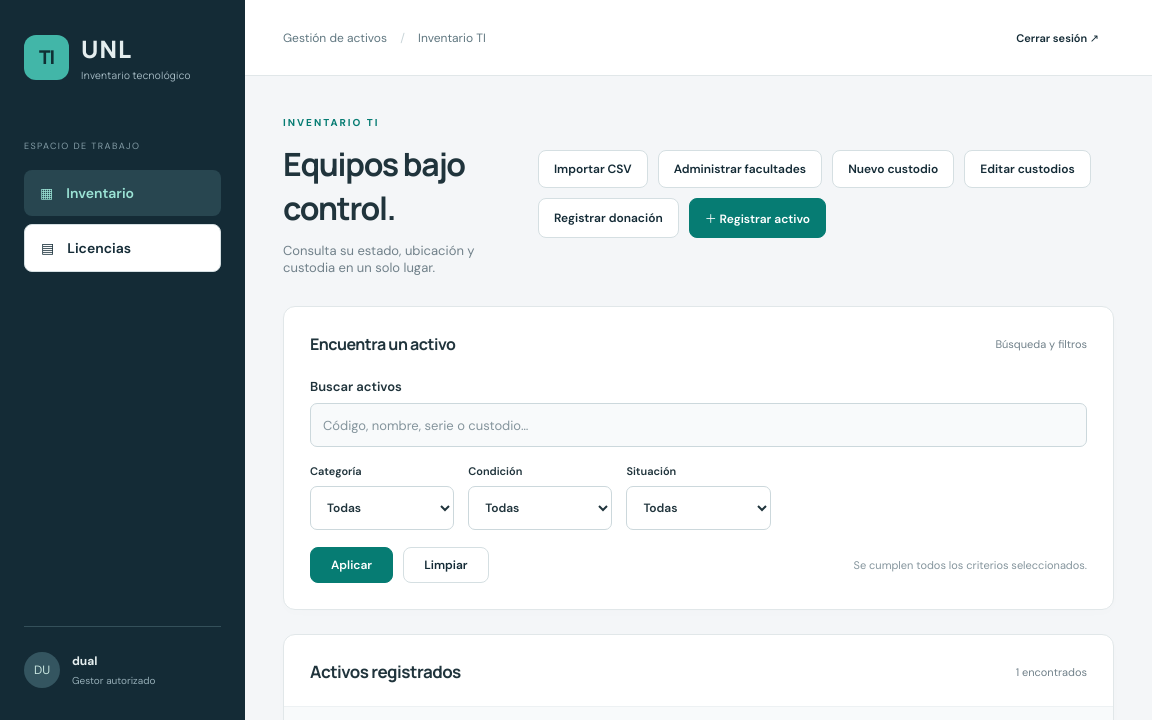
Test: cuenta con ambos permisos puede administrar y volver sin conceder roles
Click the button "Administrar facultades".
click(740, 169)  # box 658,150 -> 822,188
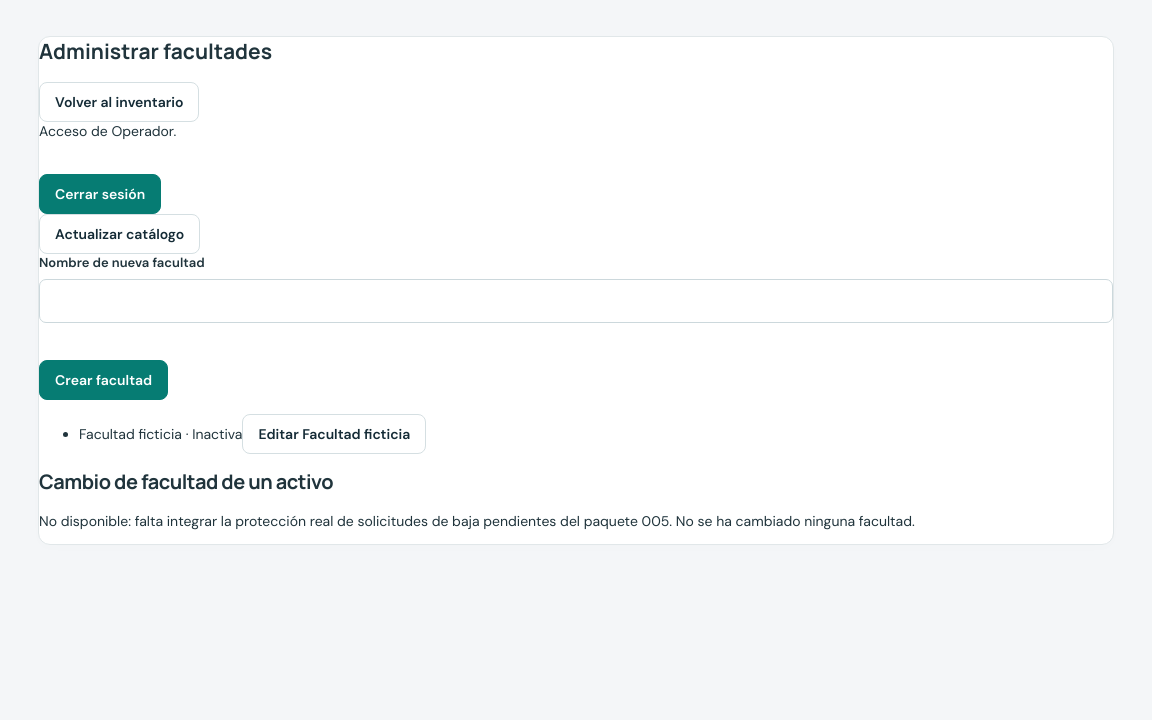
Check: the heading "Administrar facultades" is shown, box 39,37 -> 272,65
Click the button "Volver al inventario".
click(119, 102)  # box 39,82 -> 200,122
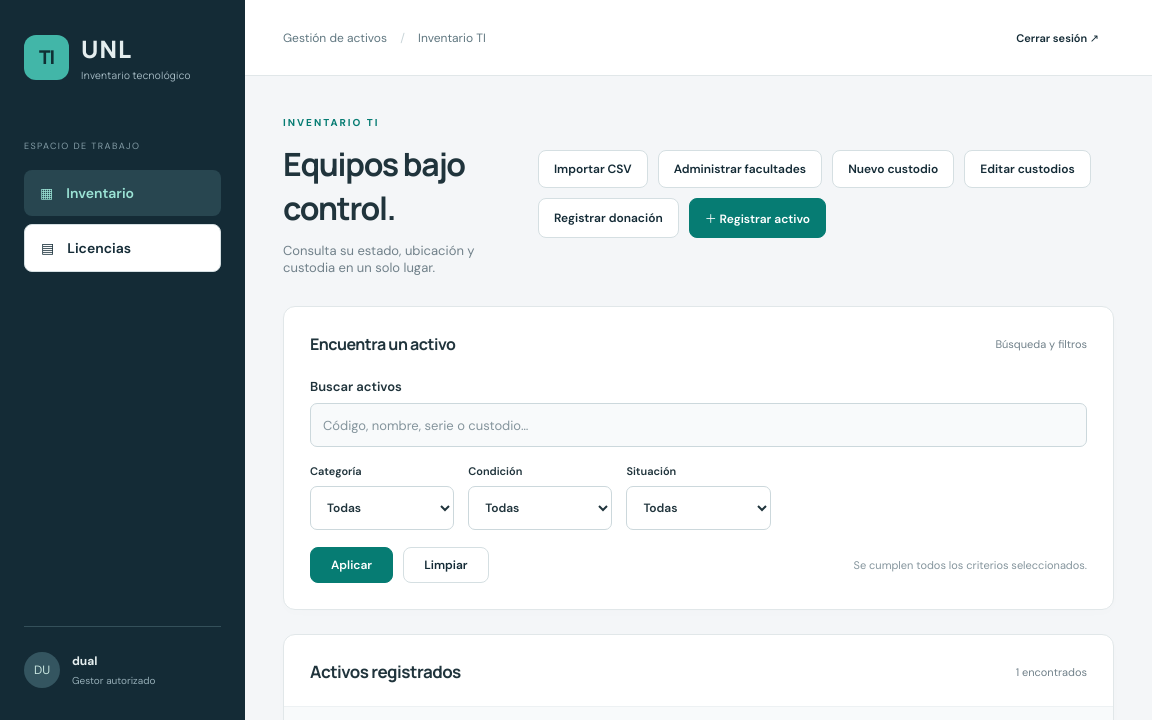
Check: the button "＋ Registrar activo" is shown, box 689,198 -> 826,238
